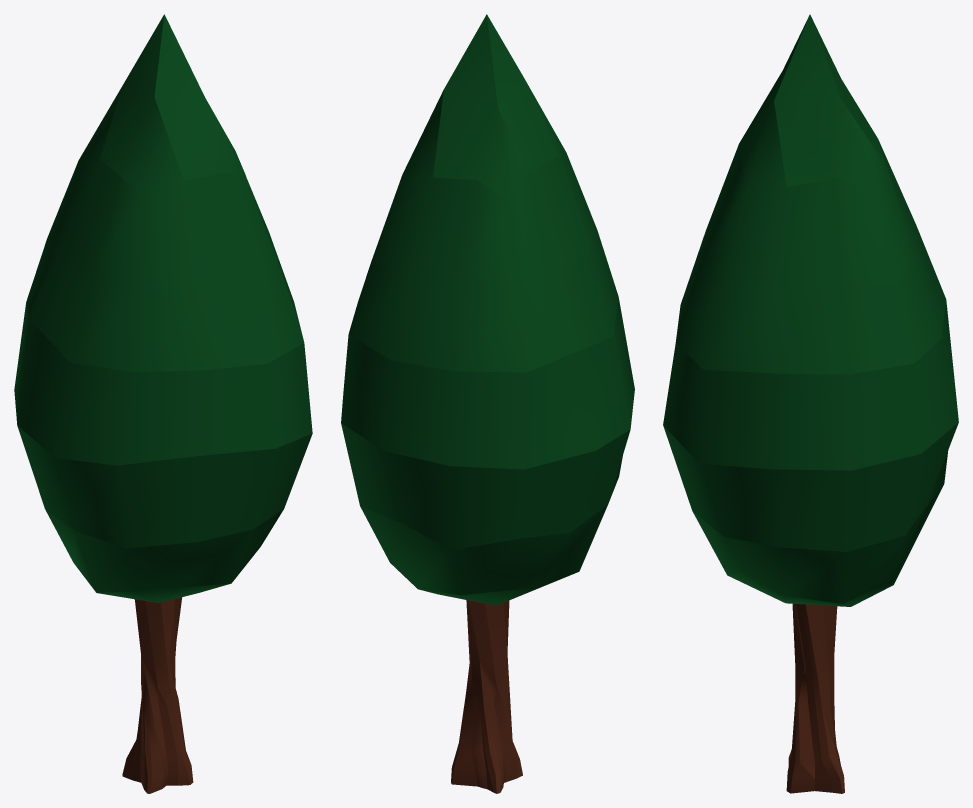
Rendered from Tree_3_High.fbx.
3 views of the same model, side by side, from view 1: azimuth 30°, elevation 25°; view 2: azimuth 150°, elevation 25°; view 3: azimuth 270°, elevation 25° (orthographic).
Parts seen in each view (by area): view 1: Tree_3_High; view 2: Tree_3_High; view 3: Tree_3_High.
Part boxes in pixels (x1,y1,x2,y2): Tree_3_High: (14, 14, 312, 793); Tree_3_High: (341, 14, 634, 793); Tree_3_High: (663, 14, 958, 793).
Bounding box in the file's own units: 80.98 × 236 × 82.06.
